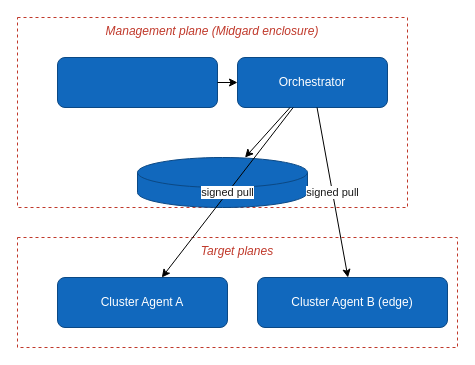
This 475x365 diagram has some shape labels left out. Here are the shapes that lost their labels. From the top down, the centre of each, then its label:
[137,82]: Bifrost Console
[222,182]: Artefact registry
